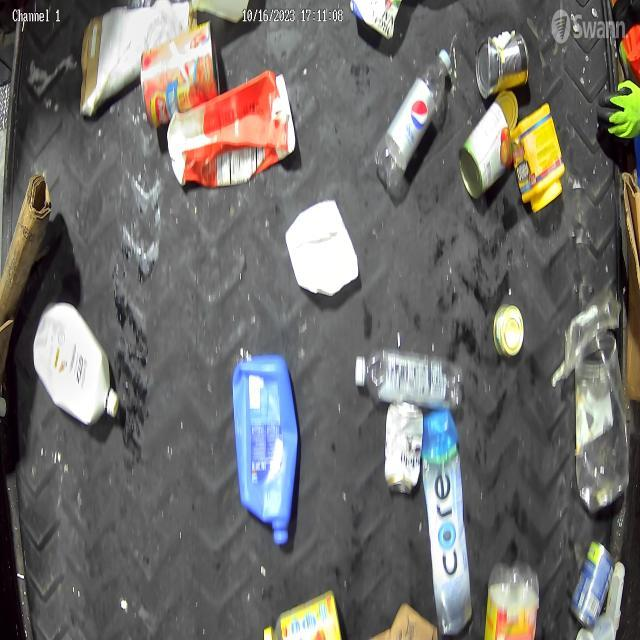can: (457, 98, 517, 200), (477, 30, 531, 100)
non_white_jug: (168, 67, 295, 203), (230, 352, 298, 544)
plastic_bottle: (375, 40, 457, 194), (354, 344, 462, 412)
